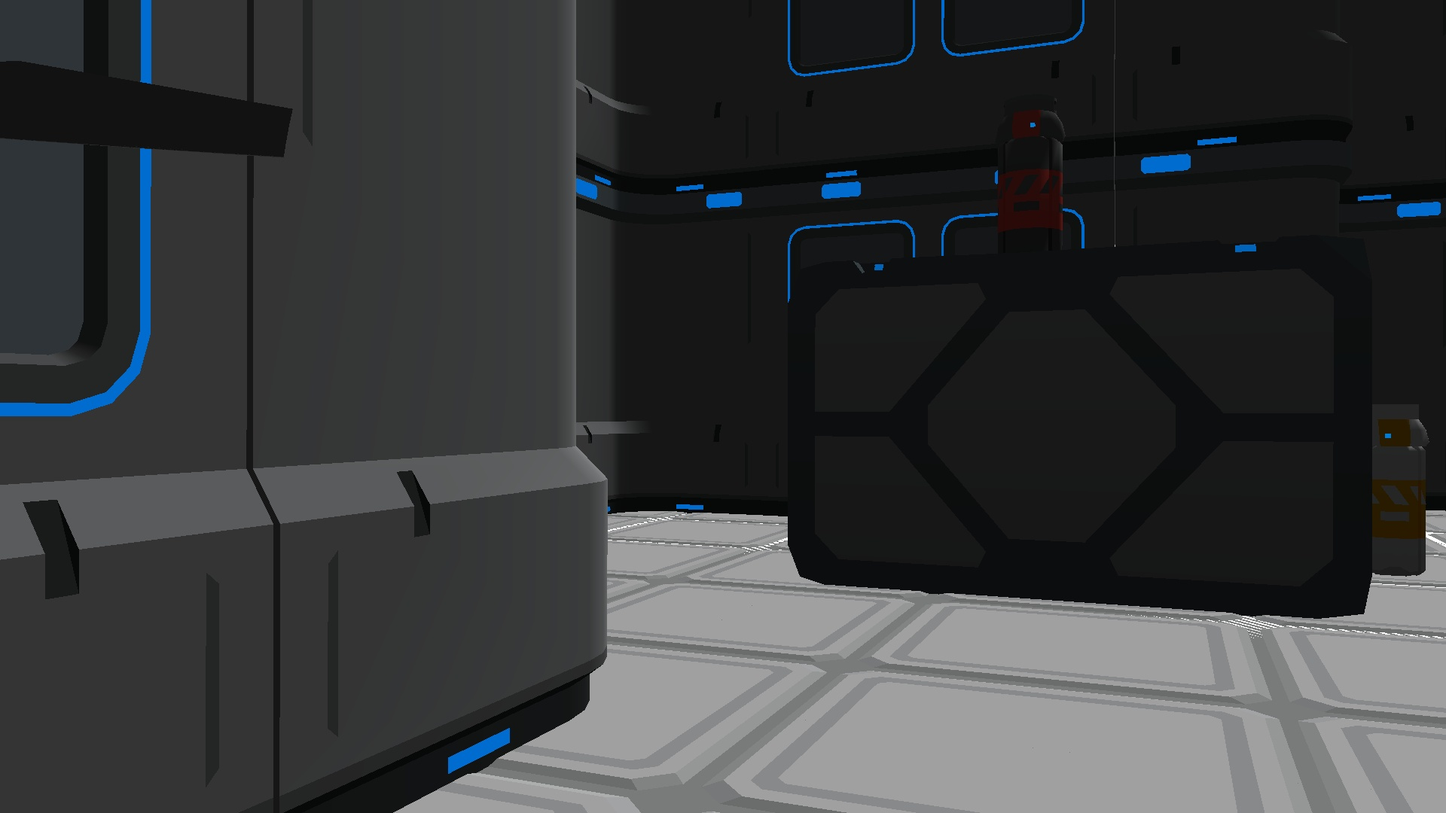red barrel: (997, 97, 1066, 254)
yellow barrel: (1372, 404, 1427, 577)
